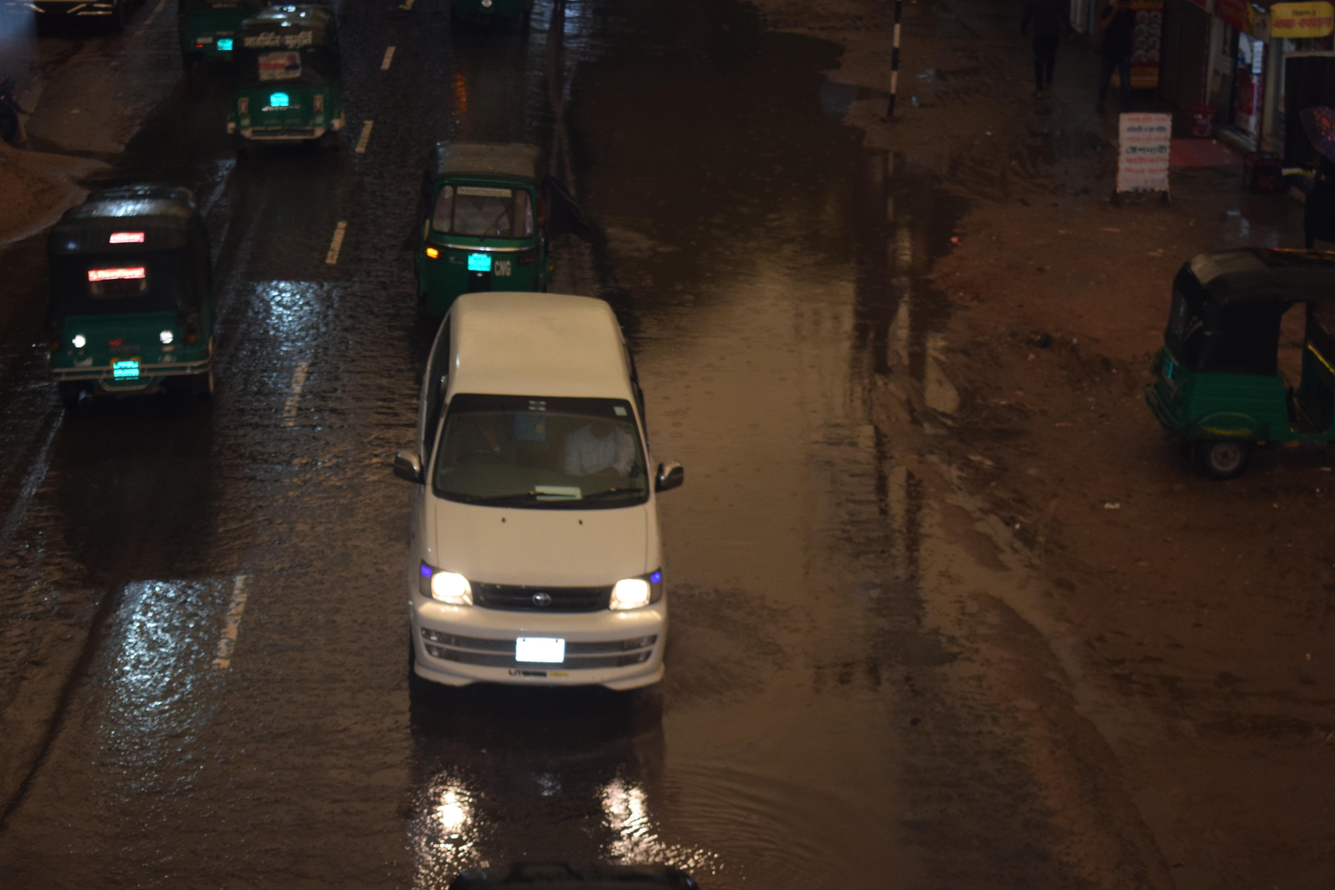Car: (338, 255, 722, 773)
